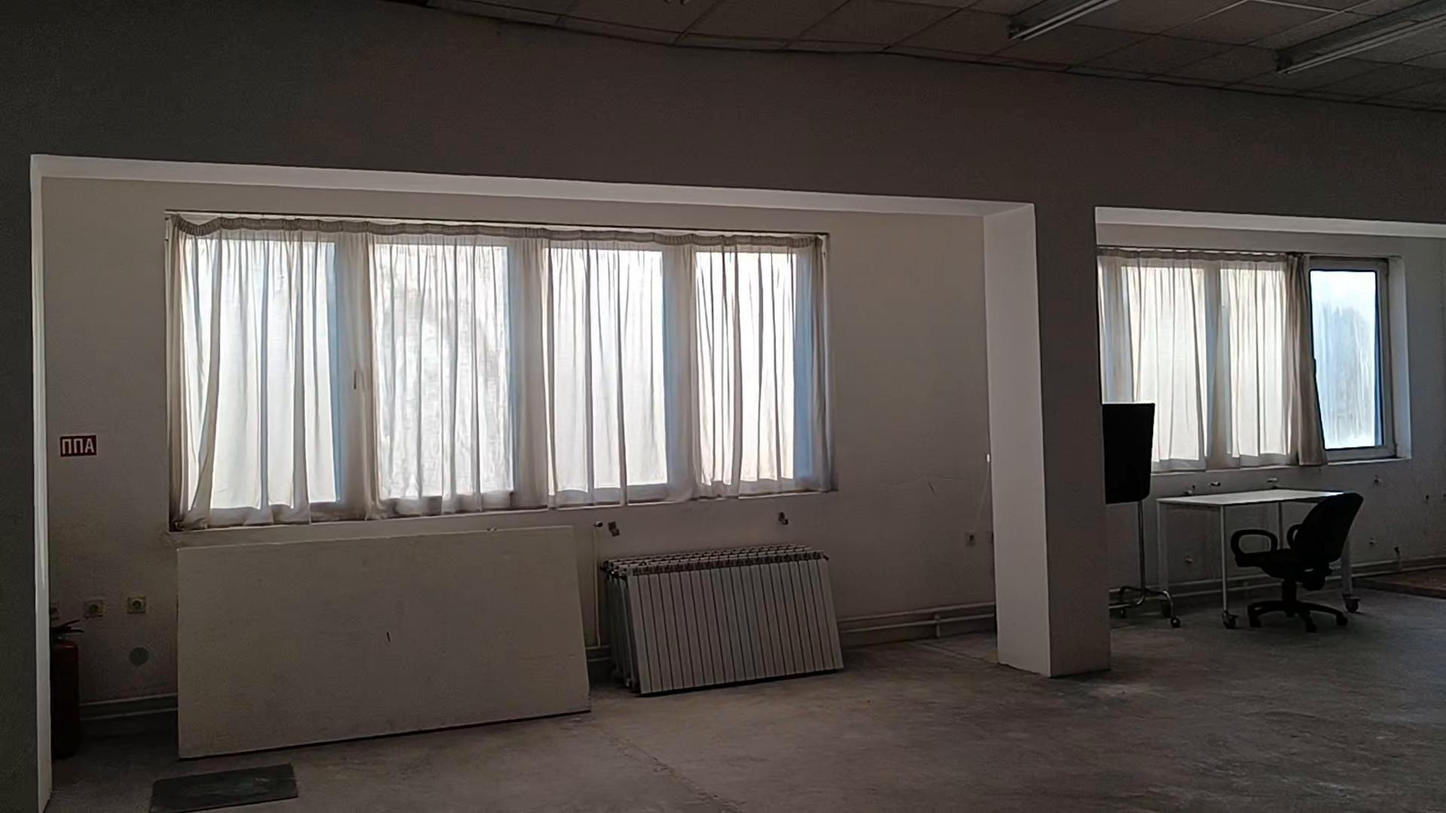ceiling: (407, 0, 1445, 111)
floor: (48, 592, 1445, 812)
wall: (0, 0, 1445, 811), (41, 161, 985, 695), (983, 204, 1110, 676), (1406, 242, 1442, 546)
